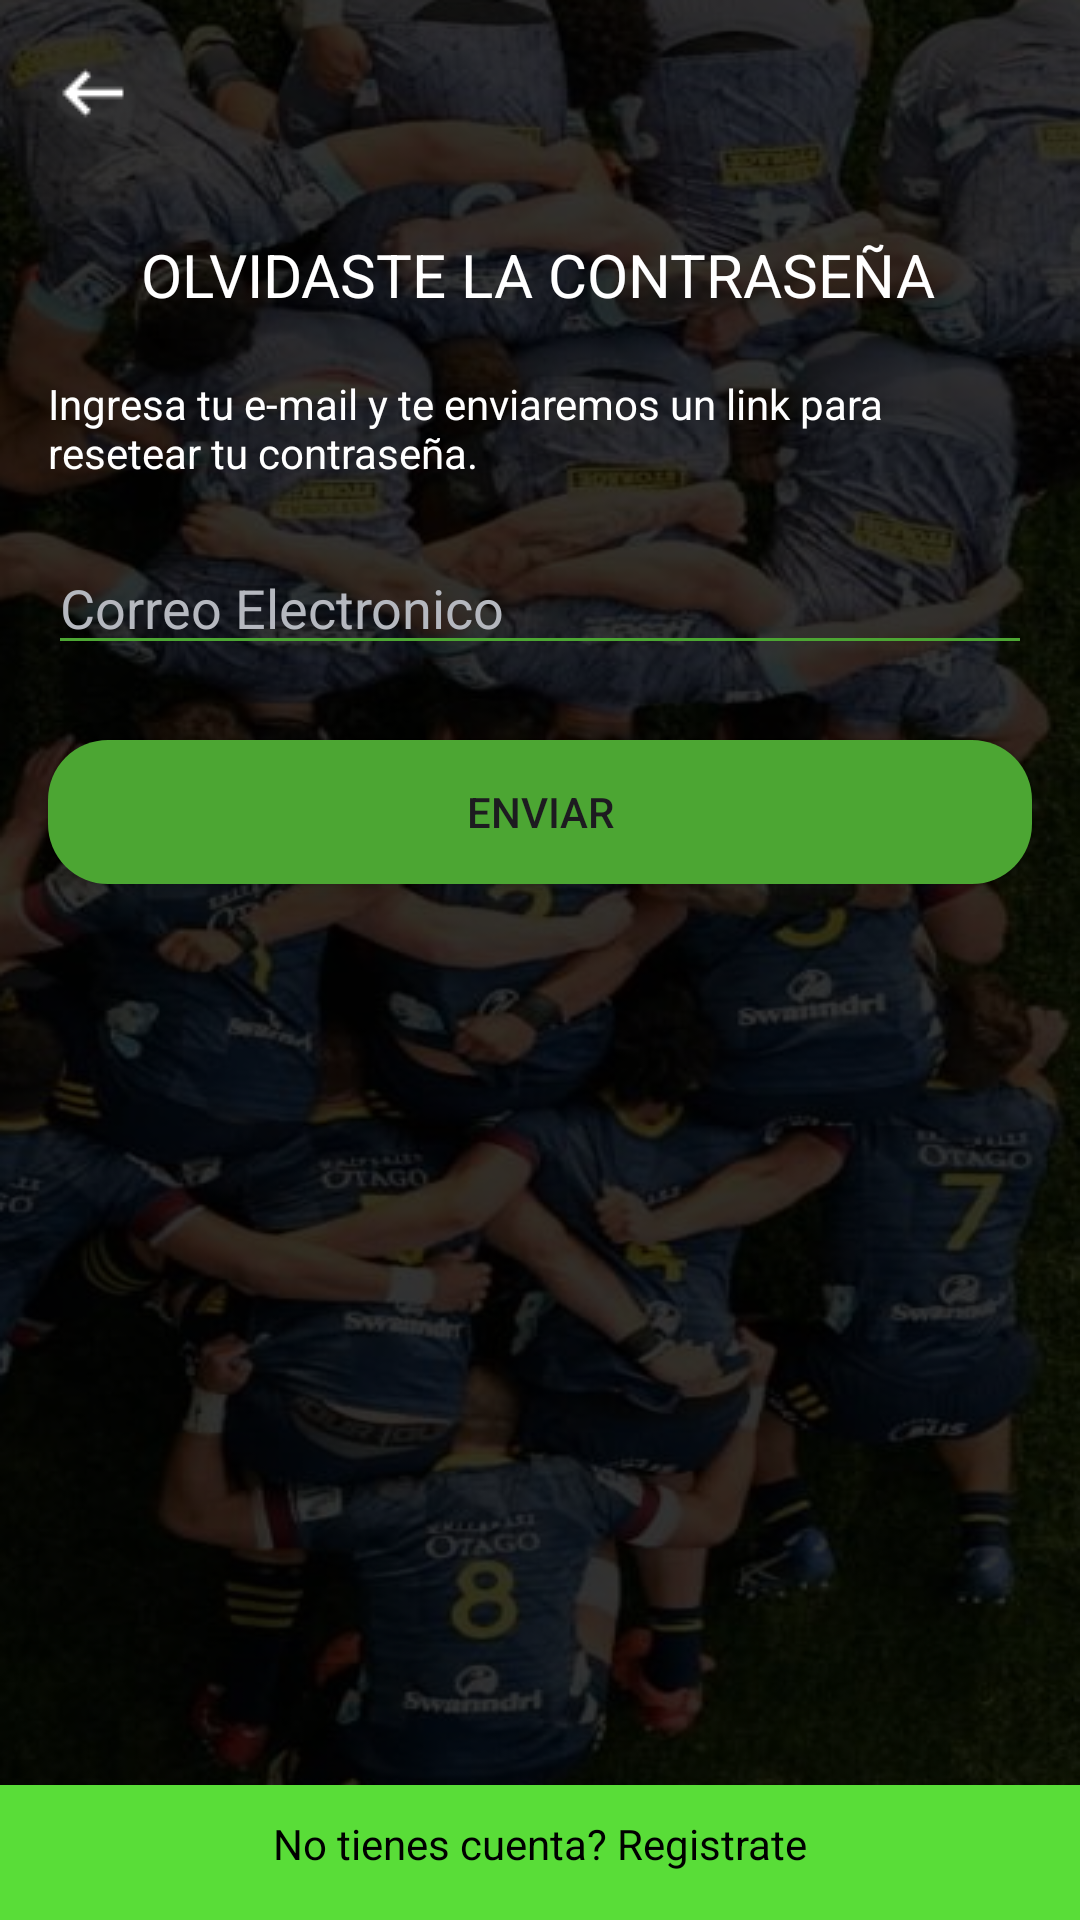

Icon bounding boxes for this 1080w x 1920h phone screenshot, format (x1, y1, x2, y2):
short left: (62, 69, 124, 117)
